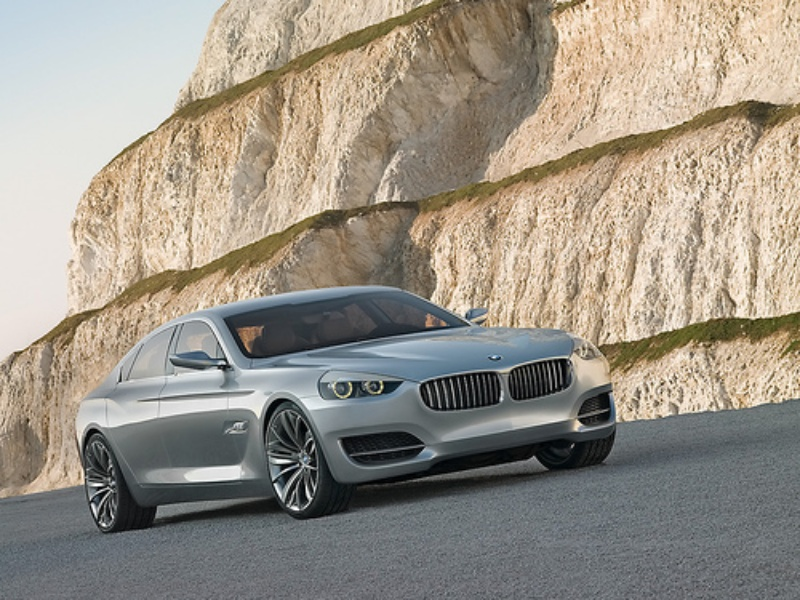car: (75, 285, 616, 534)
